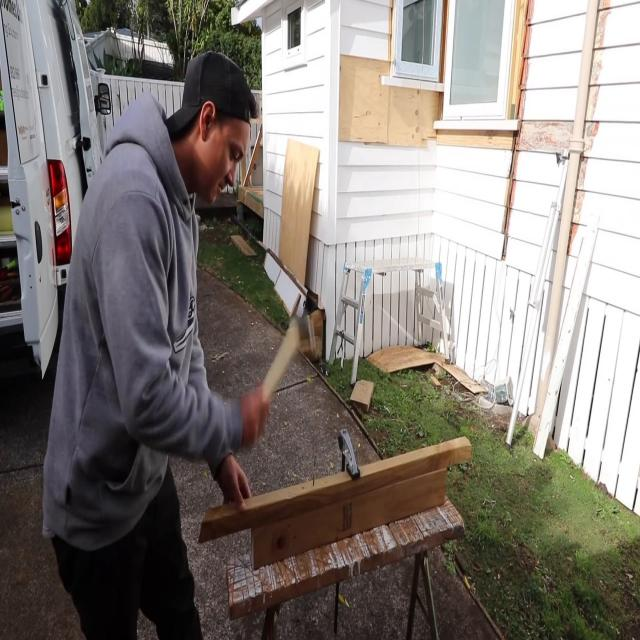hammer: (262, 314, 314, 401)
